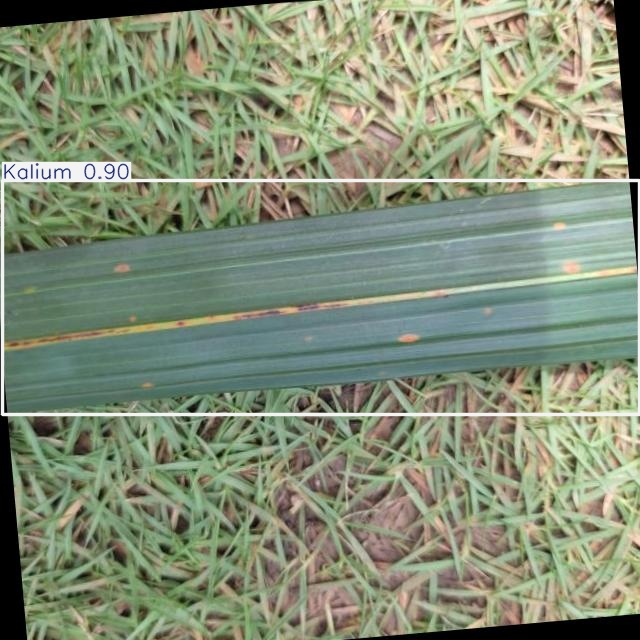Kalium: (2, 180, 639, 414)
